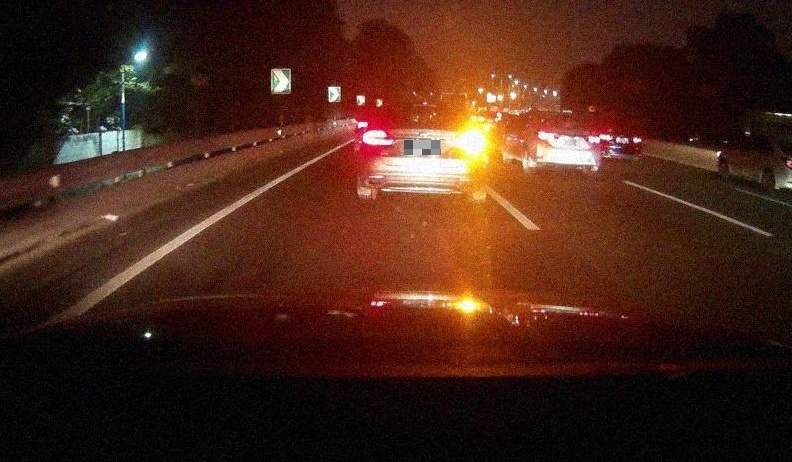L_light: (362, 130, 396, 146), (538, 131, 556, 141)
R_light: (453, 131, 484, 148), (587, 135, 600, 144)
T_light: (416, 105, 437, 109), (558, 116, 570, 119)
night-no: (529, 114, 601, 173)
night-right: (355, 103, 487, 205)
plate_1: (404, 140, 441, 155)
